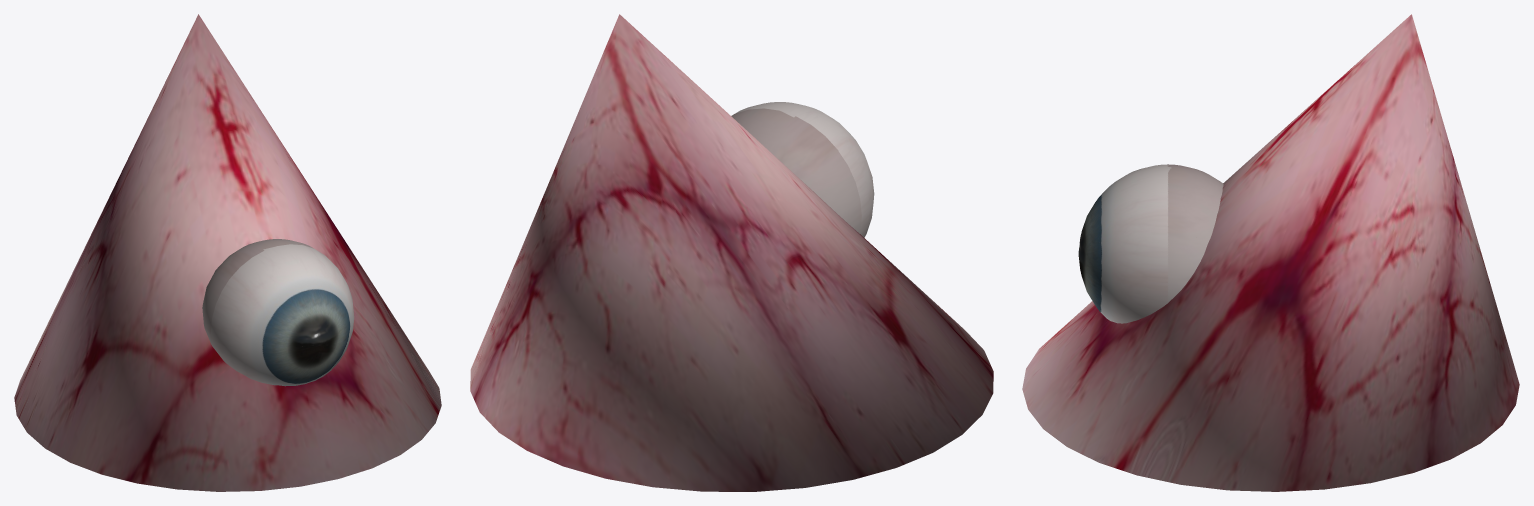
File: Cone Monster.fbx
The picture shows the model from 3 angles, left to right: view 1: azimuth 30°, elevation 25°; view 2: azimuth 150°, elevation 25°; view 3: azimuth 270°, elevation 25°; orthographic projection. The views are drawn at different scales.
Visible parts, largest first — view 1: Cone Monster, small-eye.006; view 2: Cone Monster, small-eye.006; view 3: Cone Monster, small-eye.006.
Boxes of the visible parts, <box> form: Cone Monster: <box>14,14,441,491</box>; small-eye.006: <box>202,239,354,386</box>; Cone Monster: <box>470,14,993,491</box>; small-eye.006: <box>731,102,874,237</box>; Cone Monster: <box>1022,14,1519,491</box>; small-eye.006: <box>1078,164,1223,323</box>.
Size of the model in its own units: 170 by 148 by 170.
